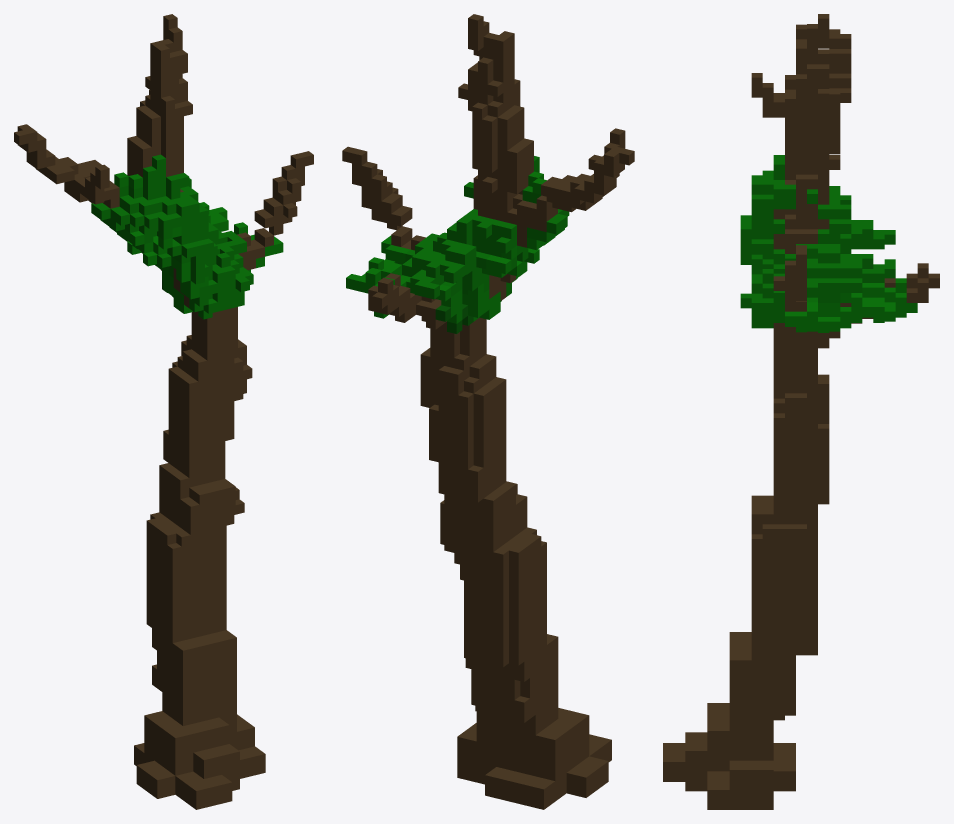
The model's file is Tree.obj.
3 views of the same model, side by side, from view 1: azimuth 30°, elevation 25°; view 2: azimuth 150°, elevation 25°; view 3: azimuth 270°, elevation 25° (orthographic). The views are drawn at different scales.
Bounding box in the file's own units: 3.1 × 7.7 × 2.5.
1 material, 1 textured.
